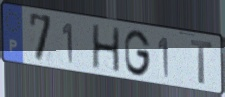1: (61, 22, 74, 65), (157, 36, 170, 79)
7: (28, 11, 54, 64)
G: (123, 29, 152, 78)
H: (90, 23, 122, 75)
T: (189, 39, 214, 86)
